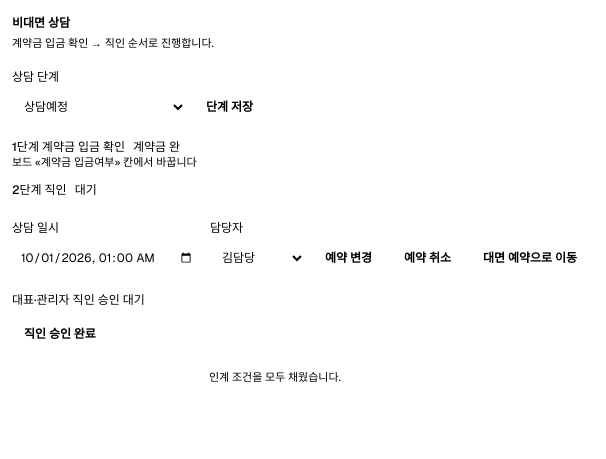
Test: ConsultationPanel › workflow 응답 유실 시 입력을 잠그고 동일 요청 전체로만 다시 확인한다
Click the button "단계 저장".
click(230, 107)  # box [194,89,265,125]
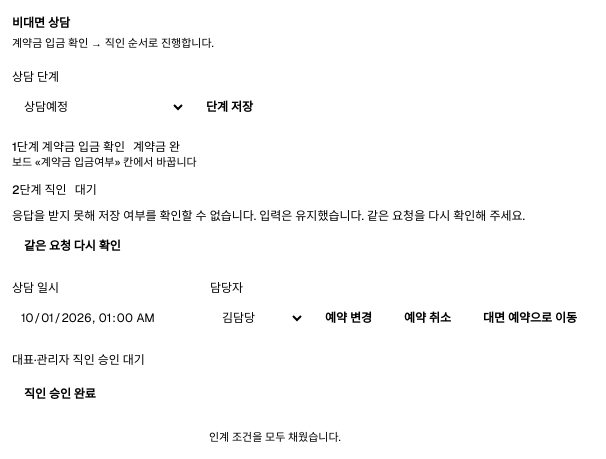
Expected: the text "저장 여부를 확인할 수 없습니다" is shown, [12,208,525,224]
Expected: the field named "meetingAt" is disabled, [12,300,202,336]
Expected: the dropdown named "assigneeId" is disabled, [210,300,305,336]
Submit the form, box [12,280,589,336]
Click the button "같은 요청 다시 확인".
click(72, 246)  # box [12,228,133,264]
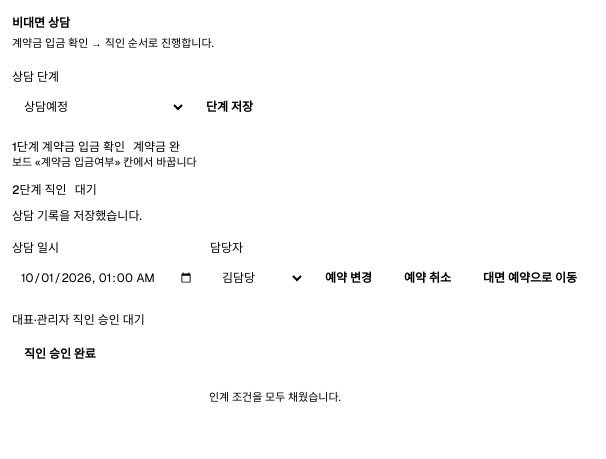
Expected: the text "저장 여부를 확인할 수 없습니다" is gone
Expected: the field named "meetingAt" is enabled, [12,260,202,296]
